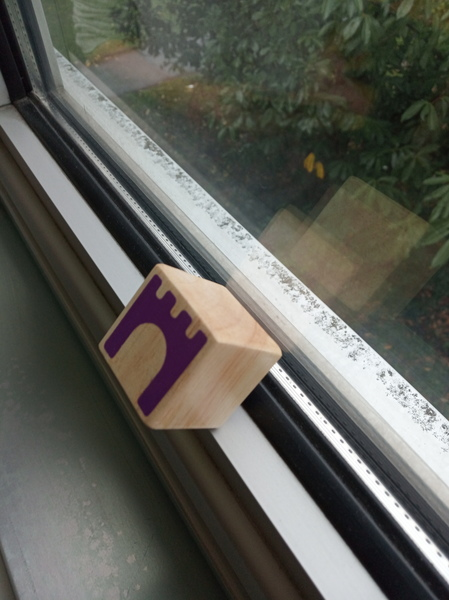violet: (104, 266, 243, 430)
